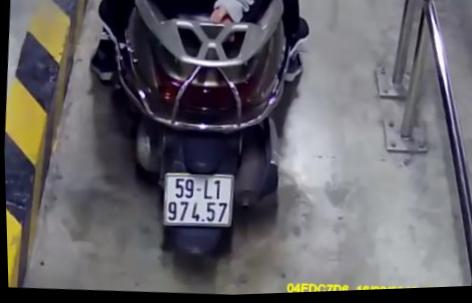LP: (159, 168, 235, 232)
